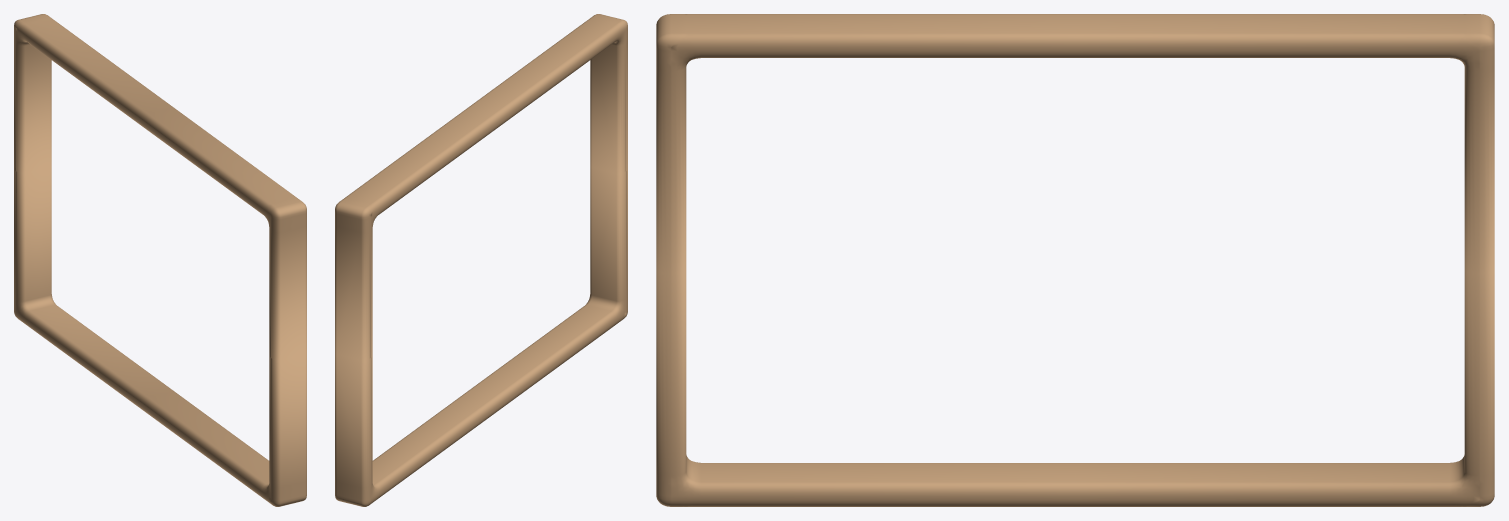
The model's file is InfographicFrameV2.fbx.
The picture shows the model from 3 angles, left to right: view 1: azimuth 30°, elevation 25°; view 2: azimuth 150°, elevation 25°; view 3: azimuth 270°, elevation 25°; orthographic projection. The views are drawn at different scales.
Visible parts, largest first — view 1: ControllerFrameV2; view 2: ControllerFrameV2; view 3: ControllerFrameV2.
Part boxes in pixels (<box>): ControllerFrameV2: <box>14,14,306,506</box>; ControllerFrameV2: <box>335,14,627,506</box>; ControllerFrameV2: <box>656,14,1494,506</box>.
Bounding box in the file's own units: 11.65 × 97.83 × 157.
